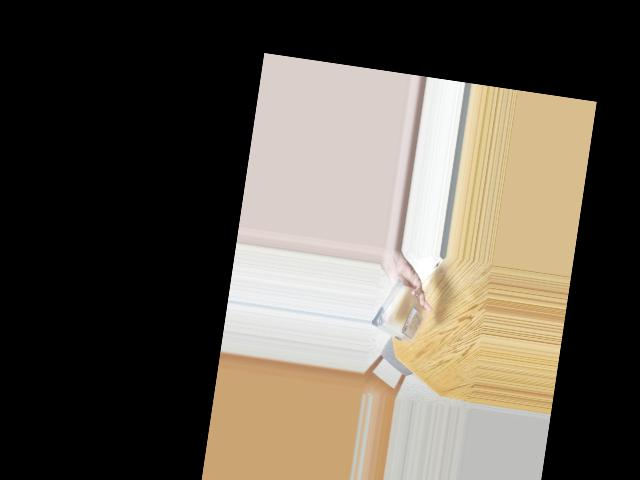cheese: (373, 282, 428, 343)
